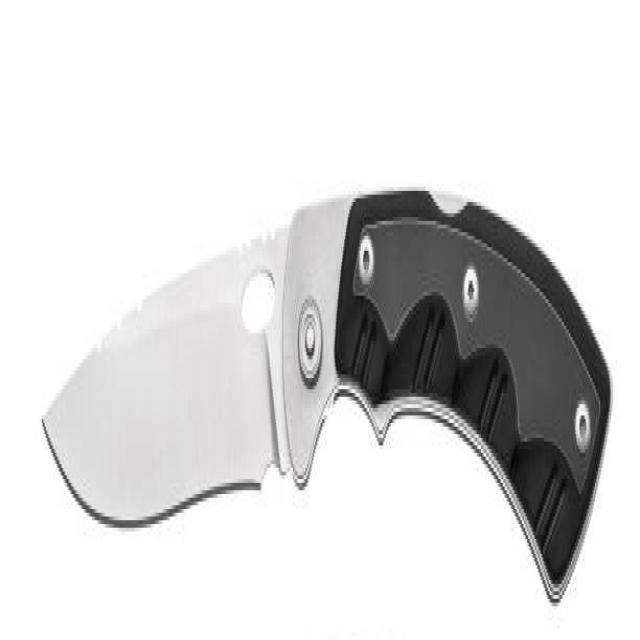knife: (40, 165, 615, 613)
